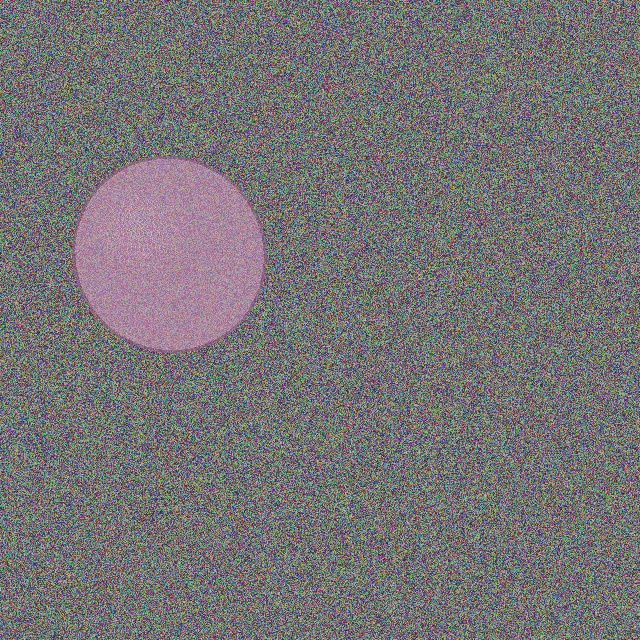lens: (73, 157, 265, 351)
